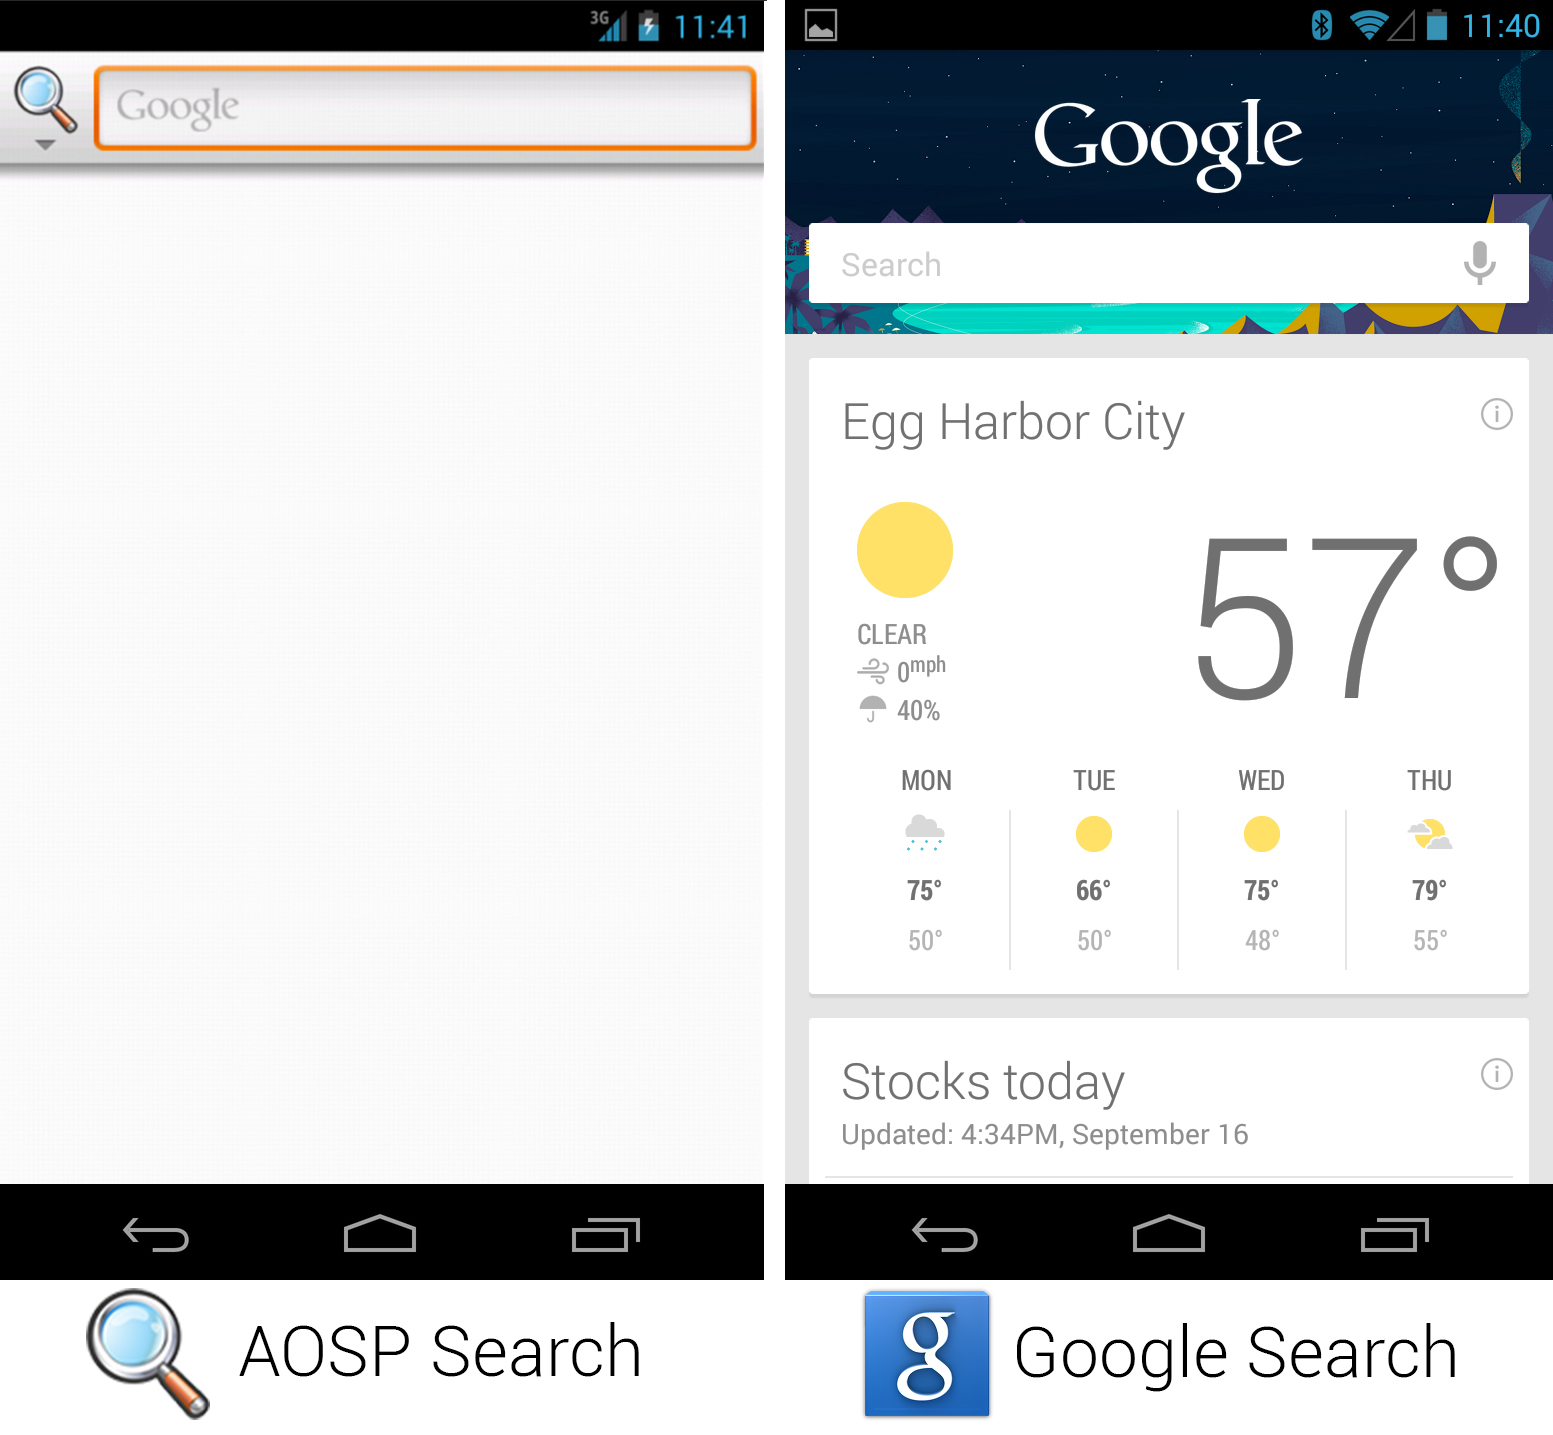searchIcon: (78, 1290, 215, 1423), (1, 51, 89, 150)
